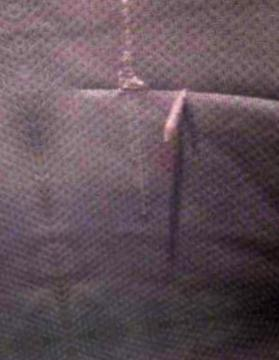snag: (157, 73, 200, 158)
